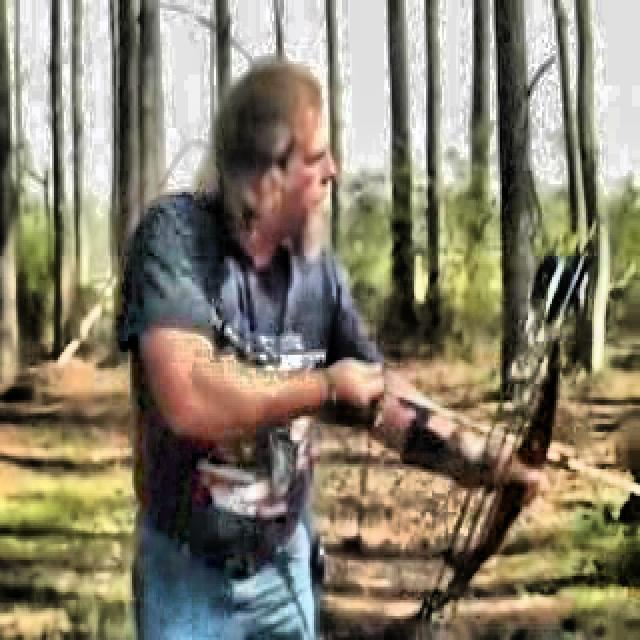I: (95, 36, 553, 640)
